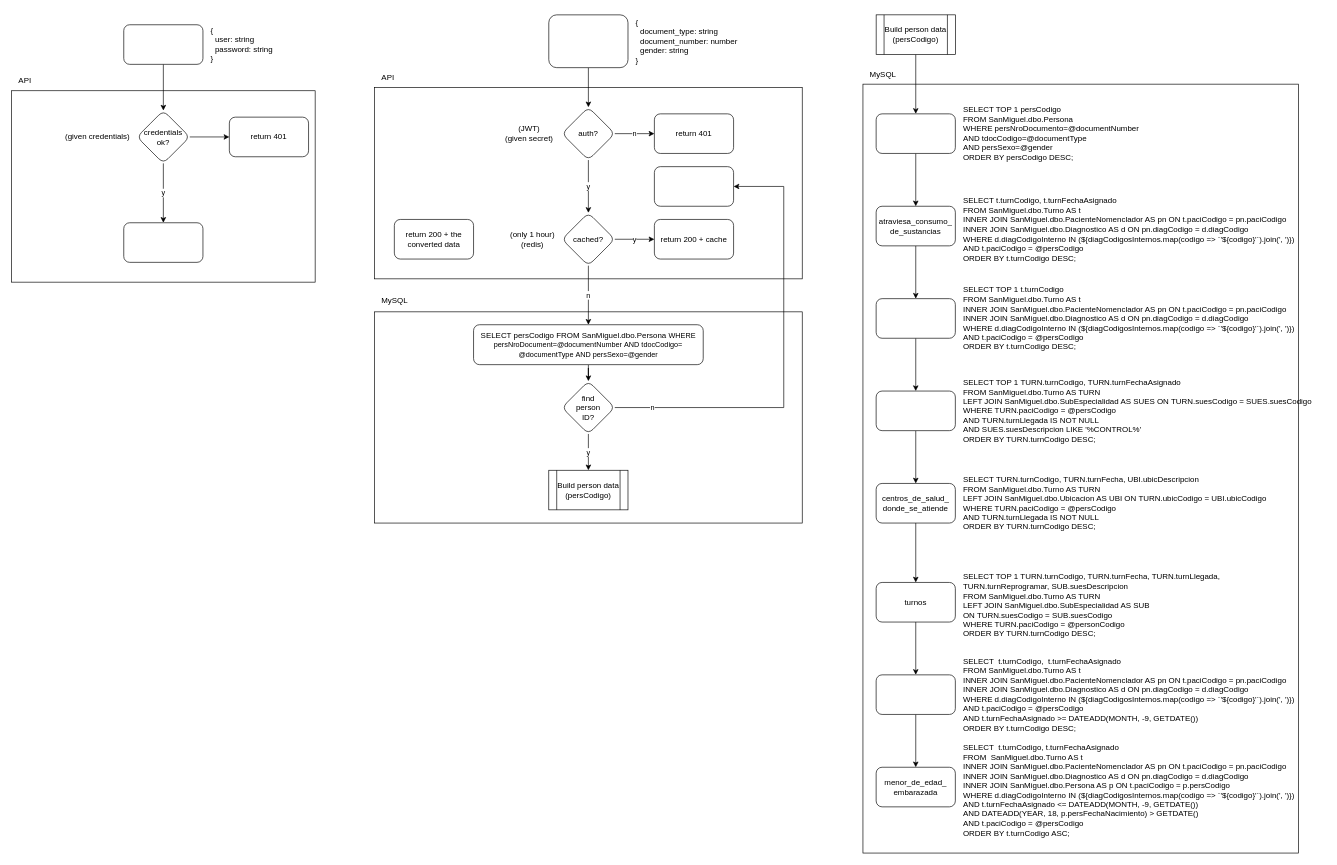
Image size: 1337x865. Some labels were removed from this diagram. Here are the shapes that lost their labels. From the top down, the box of each, then its label:
(123, 24, 203, 64): GET /v1/token/
(548, 14, 628, 68): GET /v1/person/
(875, 113, 955, 153): persona
(654, 166, 734, 206): return 404
(123, 222, 203, 262): return 200 + token
(875, 298, 955, 338): padece_problemas_ de_salud_mental
(875, 390, 955, 431): realiza_controles _medicos
(875, 674, 955, 714): persona_embarazada _actualmente
